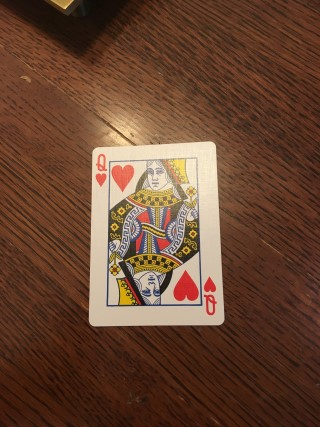QueenOfHearts: (89, 141, 224, 327)
